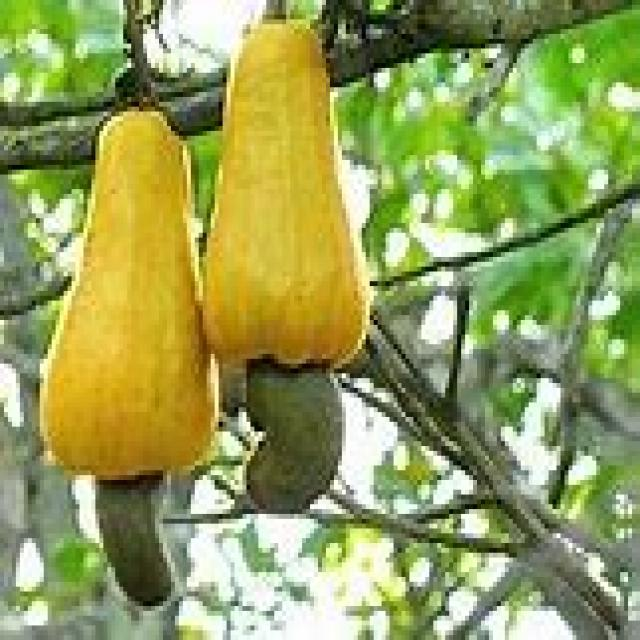Cashew: (237, 351, 359, 529), (72, 474, 203, 609)
